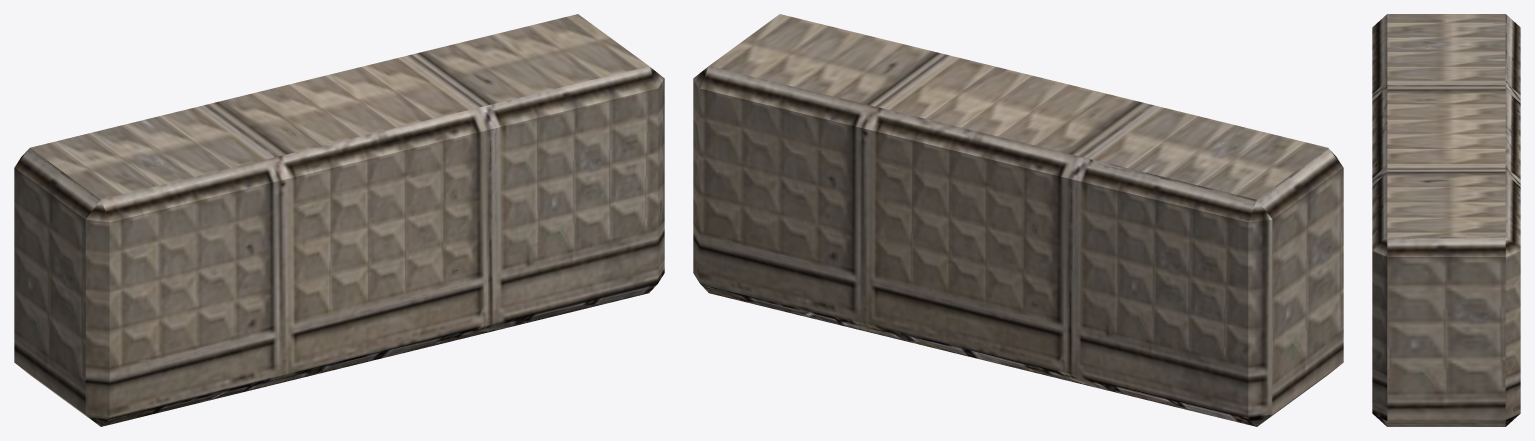
The model's file is rockfence.fbx.
The picture shows the model from 3 angles, left to right: view 1: azimuth 30°, elevation 25°; view 2: azimuth 150°, elevation 25°; view 3: azimuth 270°, elevation 25°; orthographic projection. The views are drawn at different scales.
Parts seen in each view (by area): view 1: CF; view 2: CF; view 3: CF.
Boxes of the visible parts, x1=… form: CF: x1=14, y1=14, x2=664, y2=426; CF: x1=693, y1=14, x2=1343, y2=426; CF: x1=1372, y1=14, x2=1520, y2=426.
Bounding box in the file's own units: 2 × 0.75 × 0.5315.
1 material, 1 textured.
